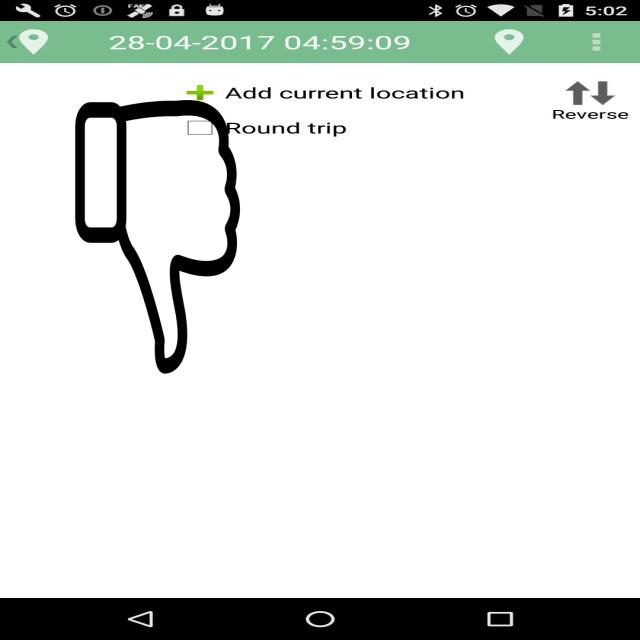obstruction: (73, 100, 242, 374)
